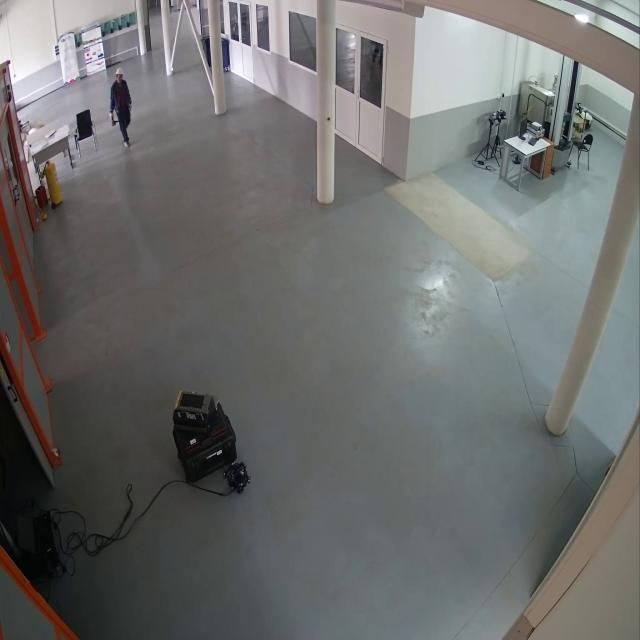Hardhat: (115, 66, 124, 76)
Person: (108, 65, 134, 149)
